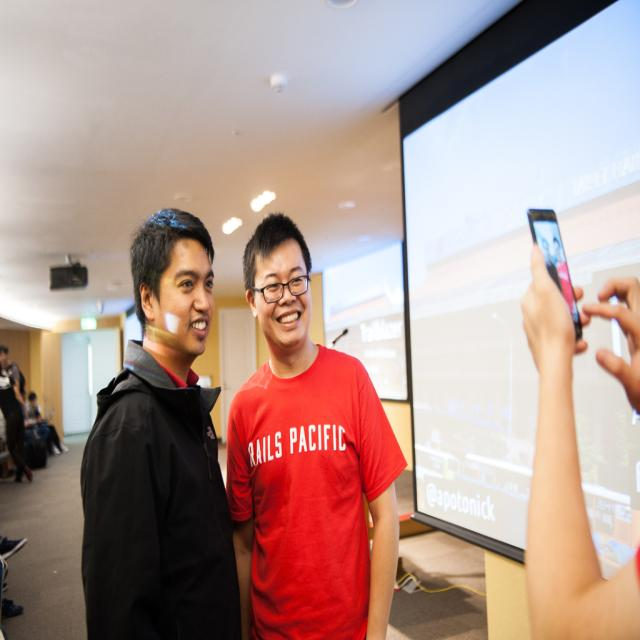Mobile-phone: (525, 202, 586, 342)
